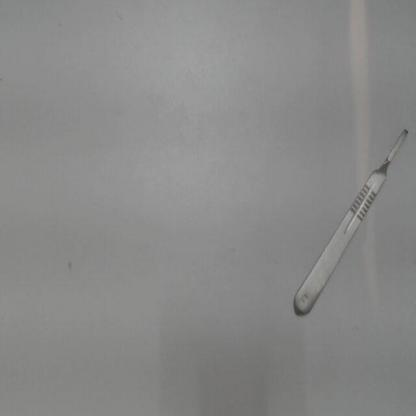No.4 BP Handle: (284, 111, 413, 328)
